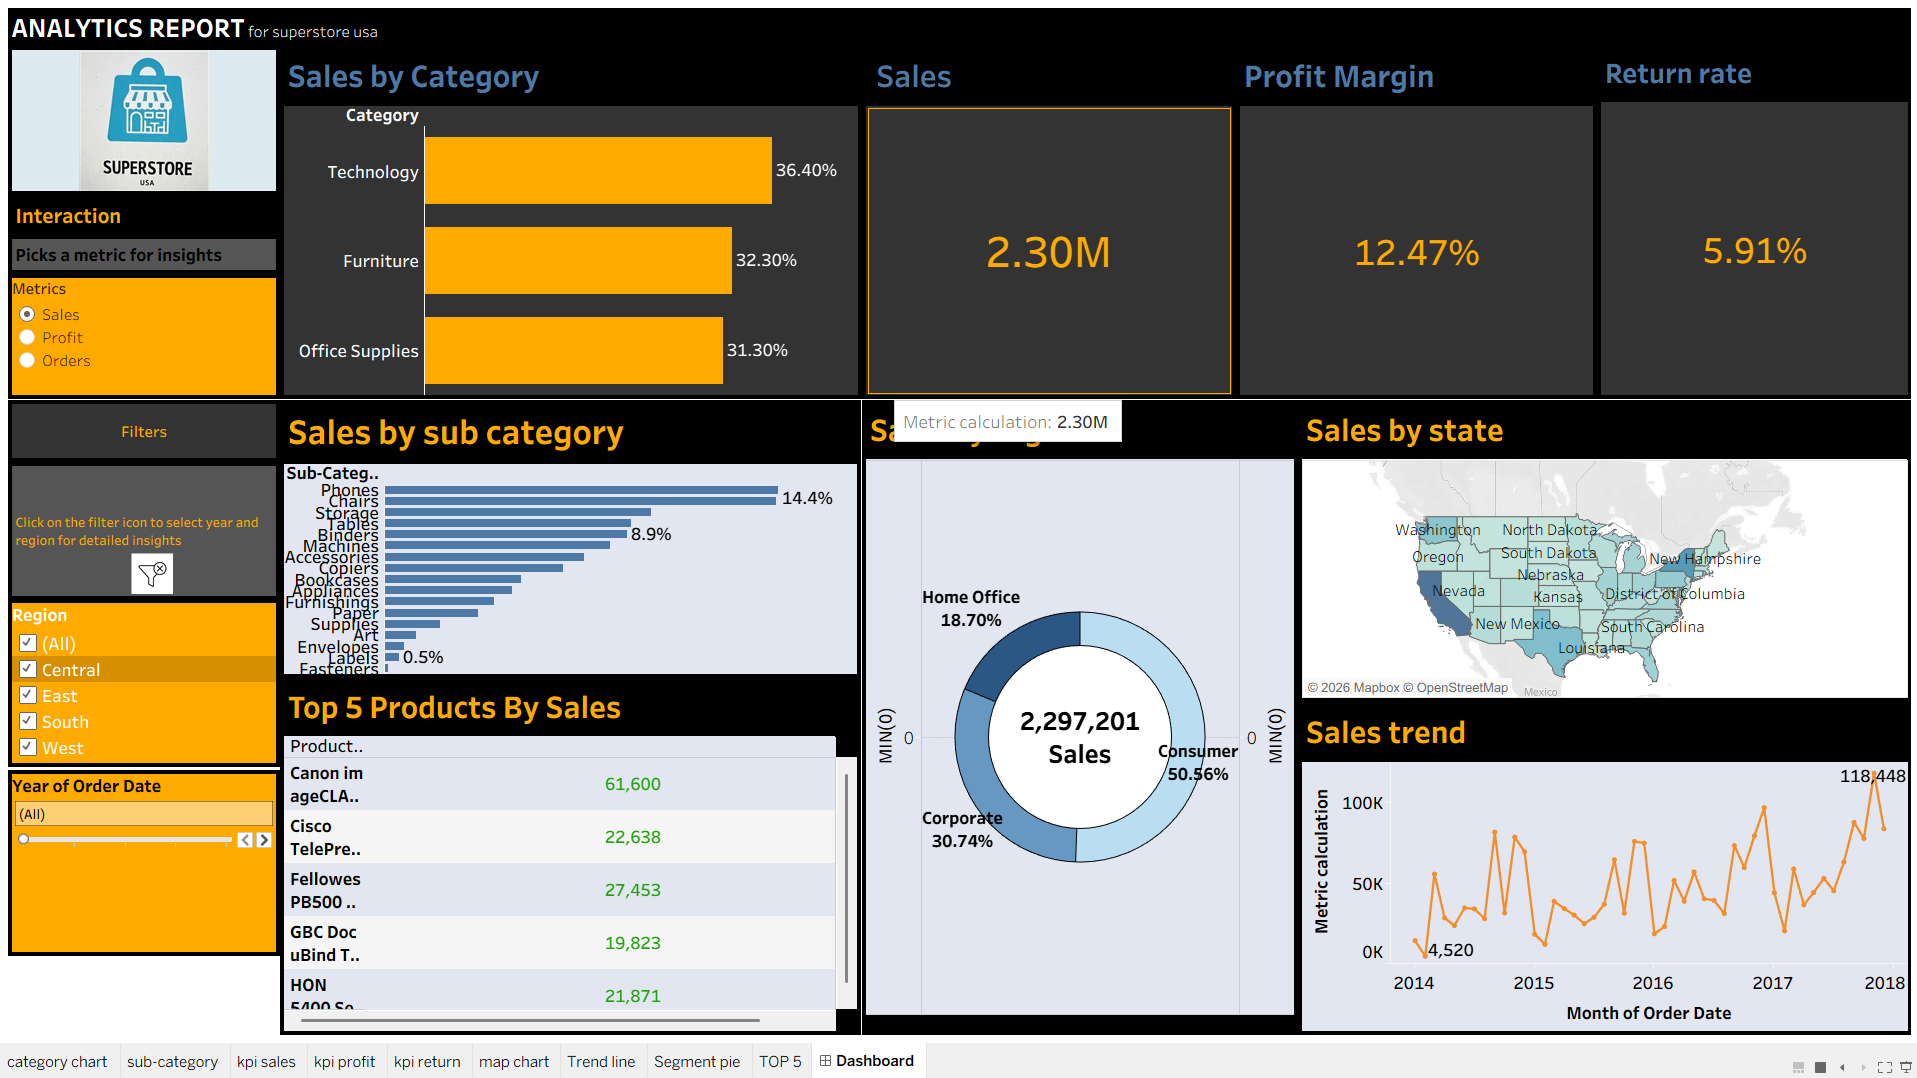

What the dashboard file says about the page in this screenshot:
{"tool":"tableau","page":{"name":"Dashboard ","canvas":[1000,1000],"units":"permille","ordinal":0},"visuals":[{"type":"text","box":[4.8,9.4,990.3,36.7]},{"type":"image","param":"Image/WhatsApp Image 2026-05-20 at 3.03.49 PM.jpeg","box":[4.8,46.1,141.5,142.5]},{"type":"worksheet","title":"category chart","mark":"Automatic","rows":["Category"],"cols":["Calculation_0830409486245888"],"box":[146.3,46.1,302.7,337.7]},{"type":"worksheet","title":"kpi sales","mark":"Automatic","box":[449.1,46.1,194.5,337.7]},{"type":"worksheet","title":"kpi profit","mark":"Automatic","box":[643.6,46.1,187.6,337.7]},{"type":"worksheet","title":"kpi return","mark":"Automatic","box":[831.2,46.1,164,337.7]},{"type":"text","box":[4.8,188.6,141.5,37.8]},{"type":"text","box":[4.8,226.4,141.5,37.7]},{"type":"parameter","param":"[Parameters].[Parameter 1]","box":[4.8,264.1,141.5,119.7]},{"type":"text","box":[4.8,383.7,141.7,59.1]},{"type":"worksheet","title":"sub-category","mark":"Automatic","rows":["Sub-Category"],"cols":["Calculation_0830409486245888"],"box":[146.5,383.7,302.4,265.3]},{"type":"worksheet","title":"Segment pie","mark":"Pie","rows":["Calculation_0471144275046402","Calculation_0471144275111940"],"box":[448.9,383.7,227.1,606.9]},{"type":"worksheet","title":"map chart","mark":"Automatic","box":[676.1,383.7,319.1,288.8]},{"type":"text","box":[4.8,442.9,141.7,131.6]},{"type":"dashboard-object","box":[61,530,36.2,40]},{"type":"filter","title":"category chart","param":"[federated.16qd0601ervaet11ccupt1upcte8].[none:Region:nk]","box":[4.8,574.4,141.7,197.4]},{"type":"worksheet","title":"TOP 5","mark":"Automatic","rows":["Product Name"],"box":[146.5,649,302.4,341.6]},{"type":"worksheet","title":"Trend line","mark":"Automatic","rows":["Calculation_0830409486245888"],"cols":["Order Date"],"box":[676.1,672.5,319.1,318.1]},{"type":"filter","title":"Trend line","param":"[federated.16qd0601ervaet11ccupt1upcte8].[yr:Order Date:ok]","box":[4.8,775.4,141.7,215.2]}]}

Visuals, with their boxes on the dashboard's canvas, which has no fixed pixel size, in thousandths of its width and height (x1, y1, x2, y2). These are canvas units, not pixel positions in the 1917x1078 screenshot, which may show the page scaled, cropped or inside an application window:
text: [5, 9, 995, 46]
image: [5, 46, 146, 189]
"category chart" worksheet: [146, 46, 449, 384]
"kpi sales" worksheet: [449, 46, 644, 384]
"kpi profit" worksheet: [644, 46, 831, 384]
"kpi return" worksheet: [831, 46, 995, 384]
text: [5, 189, 146, 226]
text: [5, 226, 146, 264]
parameter: [5, 264, 146, 384]
text: [5, 384, 146, 443]
"sub-category" worksheet: [146, 384, 449, 649]
"Segment pie" worksheet (Pie marks): [449, 384, 676, 991]
"map chart" worksheet: [676, 384, 995, 672]
text: [5, 443, 146, 574]
dashboard-object: [61, 530, 97, 570]
"category chart" filter: [5, 574, 146, 772]
"TOP 5" worksheet: [146, 649, 449, 991]
"Trend line" worksheet: [676, 672, 995, 991]
"Trend line" filter: [5, 775, 146, 991]
